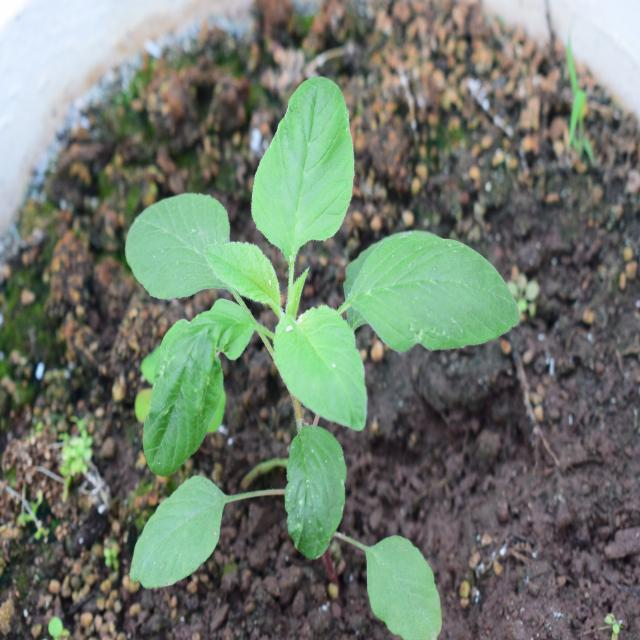pigweed: (108, 105, 498, 580)
